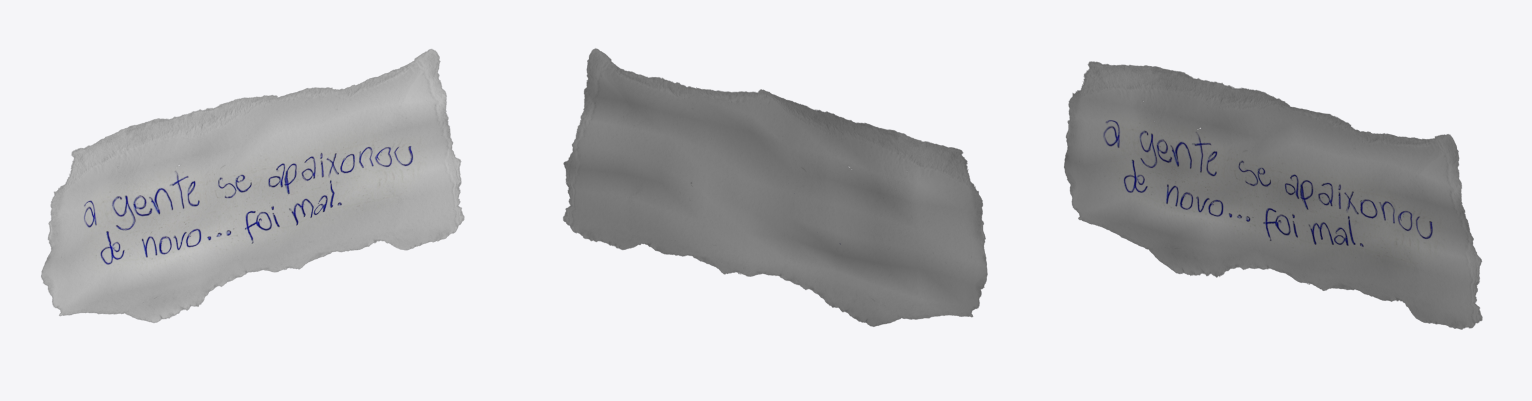
The model's file is note.glb.
3 renders of one model, left to right at view 1: azimuth 30°, elevation 25°; view 2: azimuth 150°, elevation 25°; view 3: azimuth 330°, elevation 25°, orthographic.
Parts seen in each view (by area): view 1: NoteEnglish.001, NoteEnglish; view 2: NoteEmpty, NoteEnglish; view 3: NoteEnglish.001, NoteEnglish.
Part boxes in pixels (left/top/right/bottom): NoteEnglish.001: left=41, top=49, right=463, bottom=322; NoteEnglish: left=41, top=49, right=463, bottom=322; NoteEmpty: left=563, top=48, right=987, bottom=326; NoteEnglish: left=563, top=49, right=987, bottom=326; NoteEnglish.001: left=1064, top=61, right=1482, bottom=329; NoteEnglish: left=1064, top=62, right=1481, bottom=329.
Bounding box in the file's own units: 2 × 1.05 × 0.0713.
Materials: 3 (3 with a texture image).
